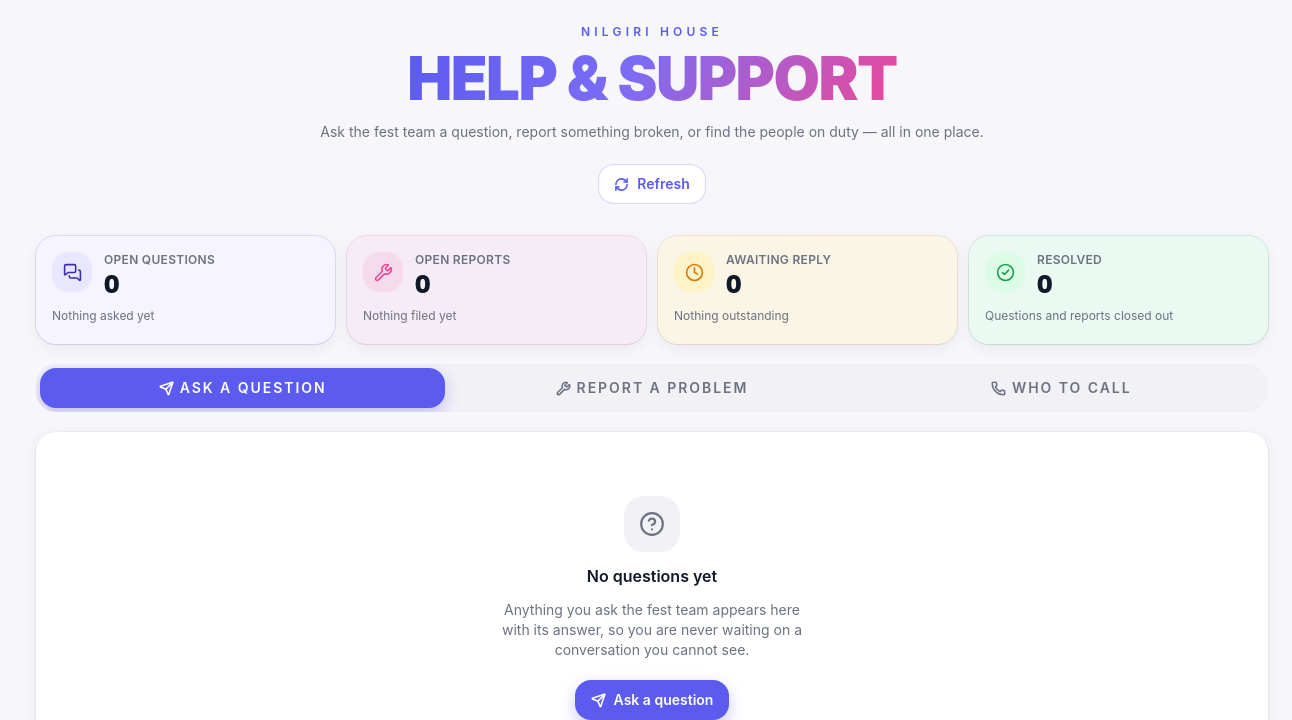
SupportPage › writes the chosen tab into the URL, so it can be shared and survives a refresh
Expected: the heading "No questions yet" is shown, [587,564,717,588]
Click the tab "Report a problem" at (652, 388), box [449,368,855,408]
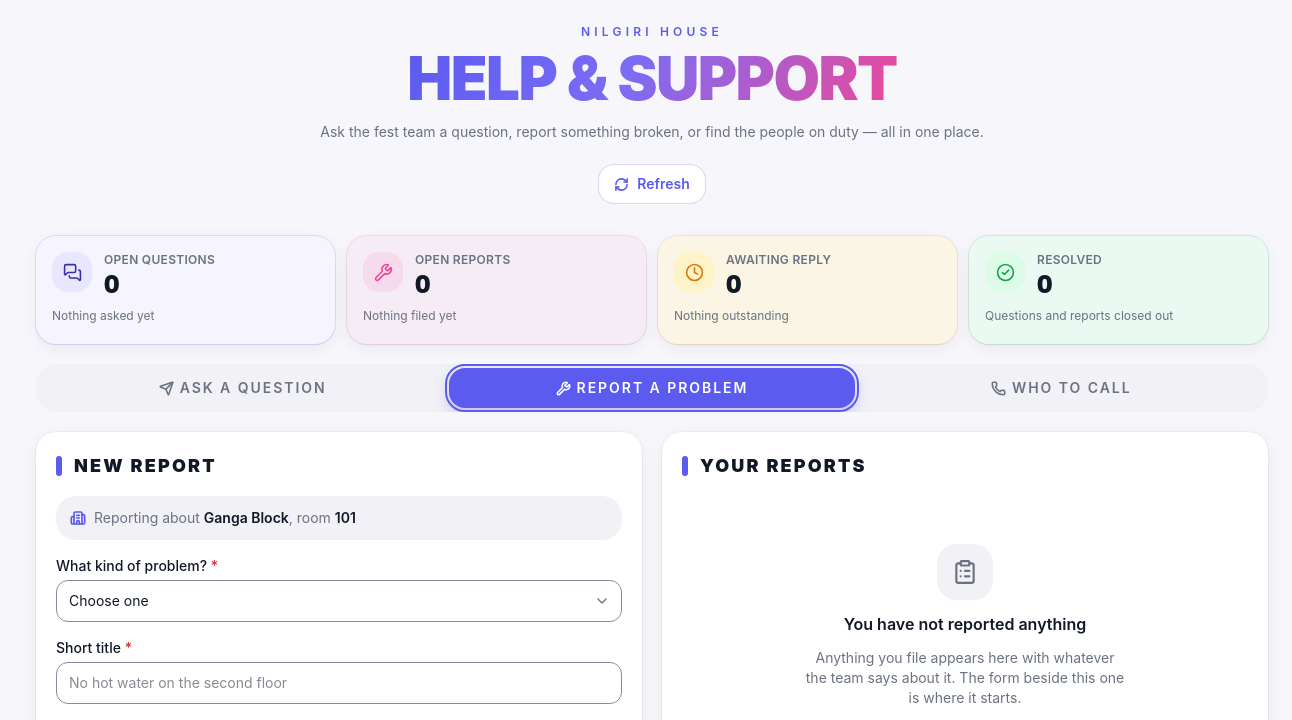
Click the tab "Who to call" at (1061, 388), box [859,368,1264,408]
(page scrolled)
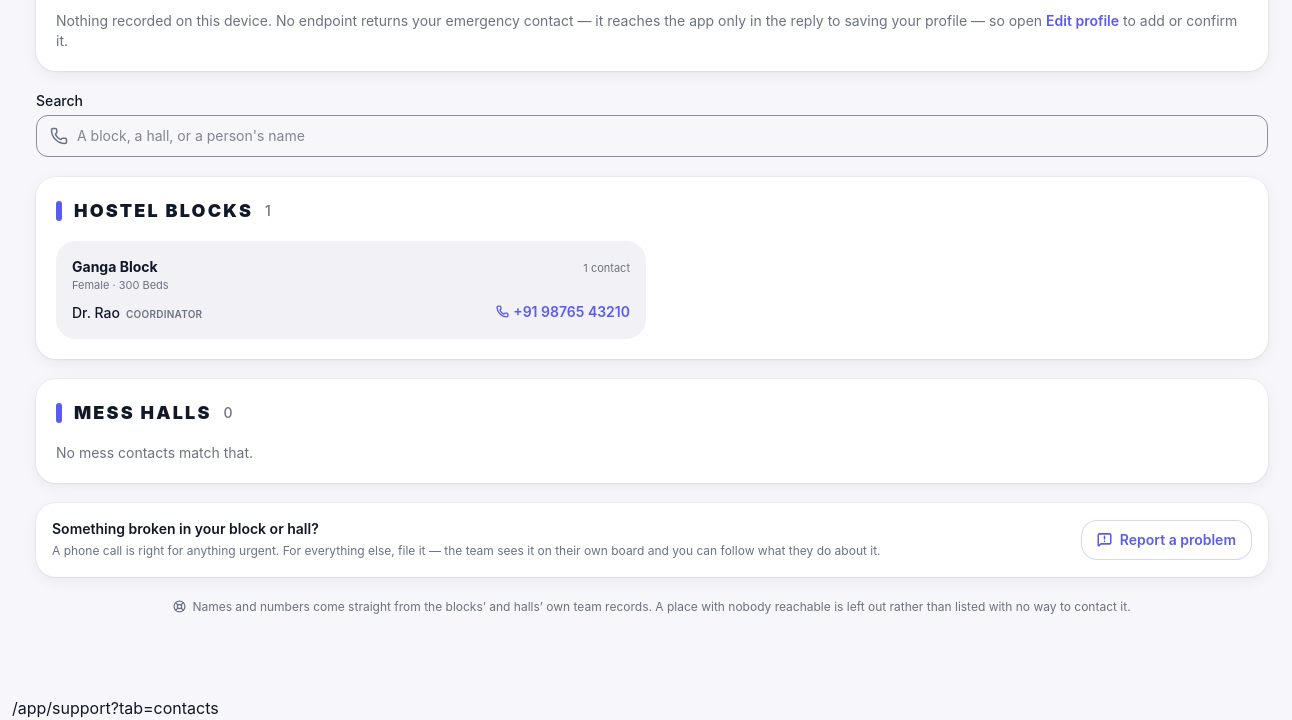
Result: the text with test id "url" reads "/app/support?tab=contacts" at [12,698,219,718]
